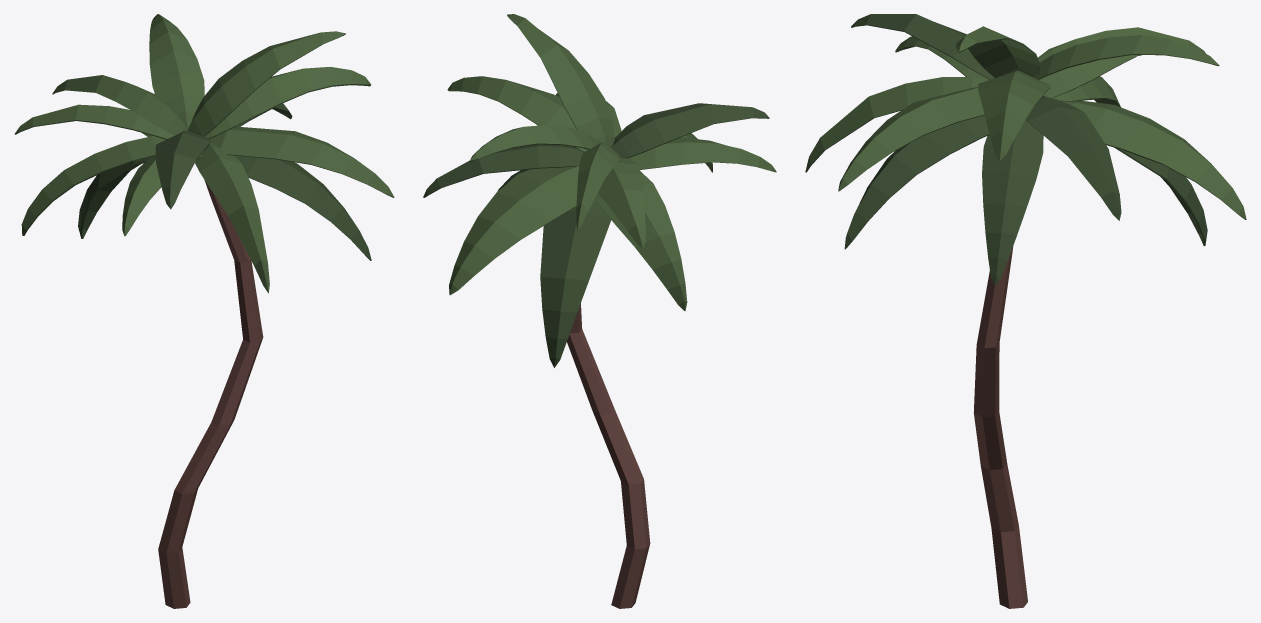
The model's file is palmtree_harvested.gltf.
3 renders of one model, left to right at view 1: azimuth 30°, elevation 25°; view 2: azimuth 150°, elevation 25°; view 3: azimuth 270°, elevation 25°, orthographic. The views are drawn at different scales.
Parts seen in each view (by area): view 1: palmtree_harvested; view 2: palmtree_harvested; view 3: palmtree_harvested.
Boxes of the visible parts, bbox=[...] form: palmtree_harvested: bbox=[14, 14, 394, 608]; palmtree_harvested: bbox=[423, 14, 776, 608]; palmtree_harvested: bbox=[805, 14, 1246, 608].
Size of the model in its own units: 1.81 by 3.25 by 2.05.
Materials: 1 (1 with a texture image).
